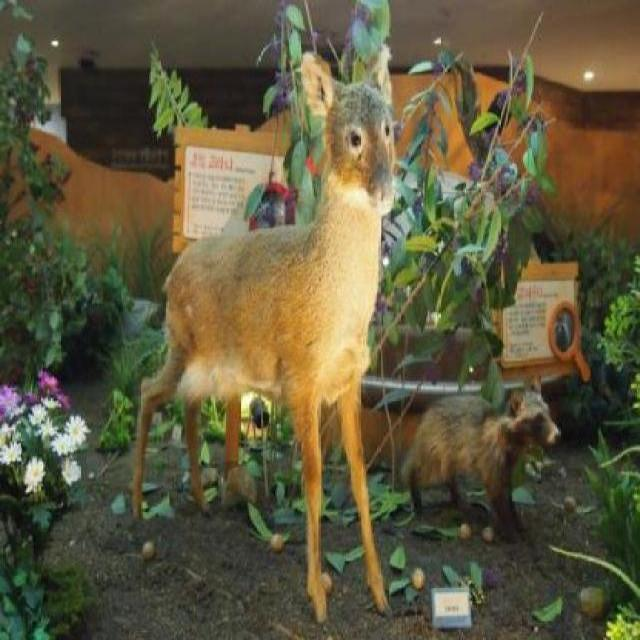deer: (124, 42, 412, 640)
